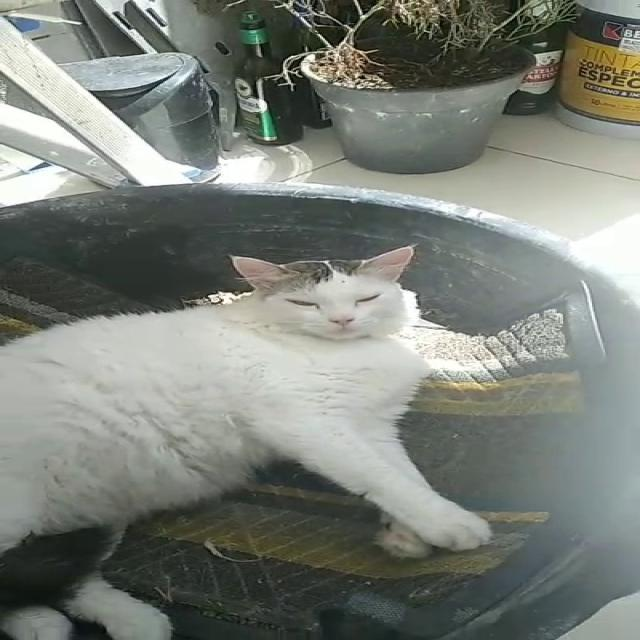Simba: (1, 210, 527, 639)
